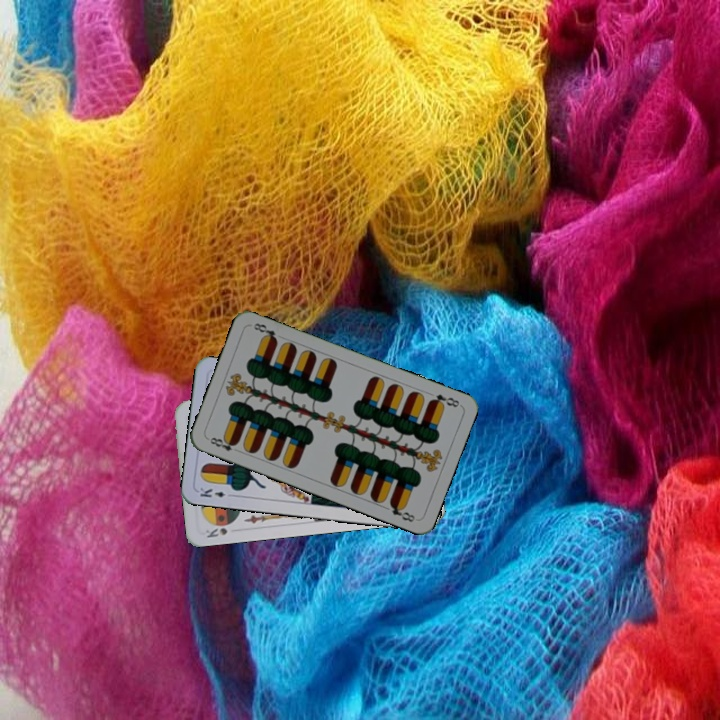E8: (204, 433, 242, 455), (425, 390, 462, 410)
EK: (196, 484, 236, 500)
SK: (202, 524, 230, 540)
